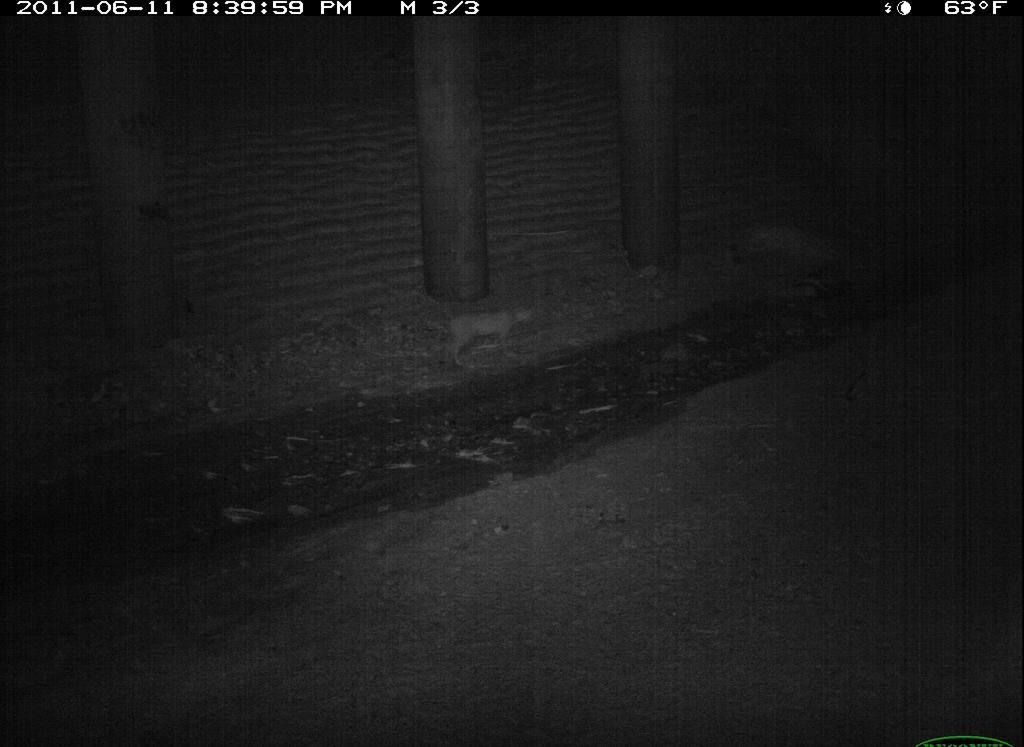bobcat: (880, 597, 1024, 747)
